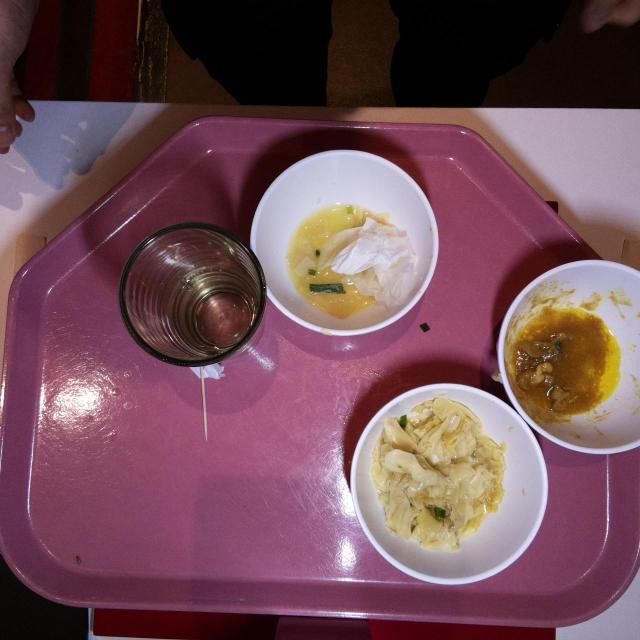Noodle: (381, 413, 503, 533)
